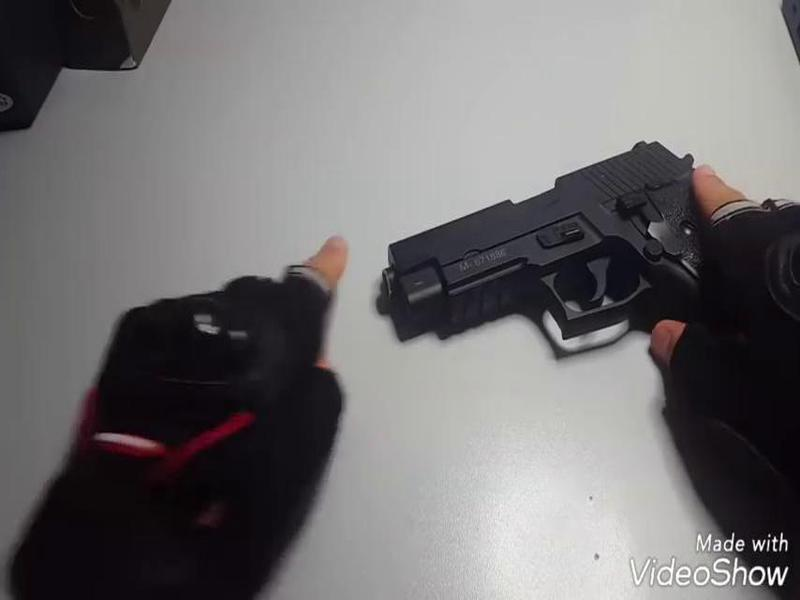Pistola: (349, 135, 776, 368)
